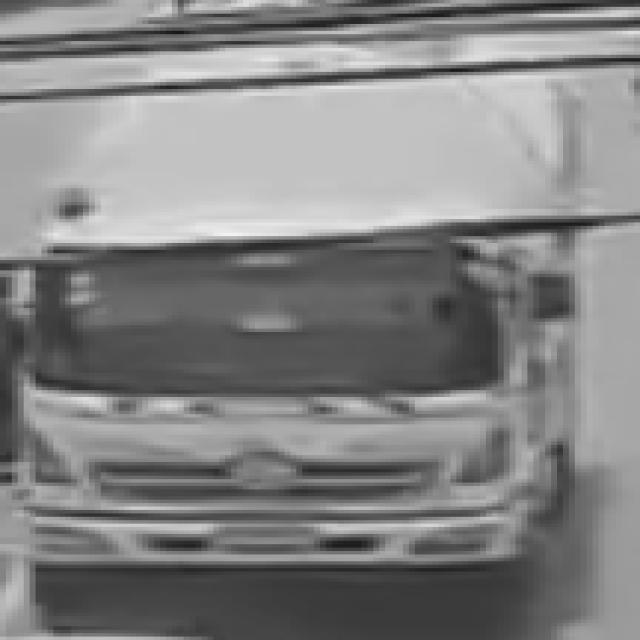Truck: (23, 82, 588, 603)
